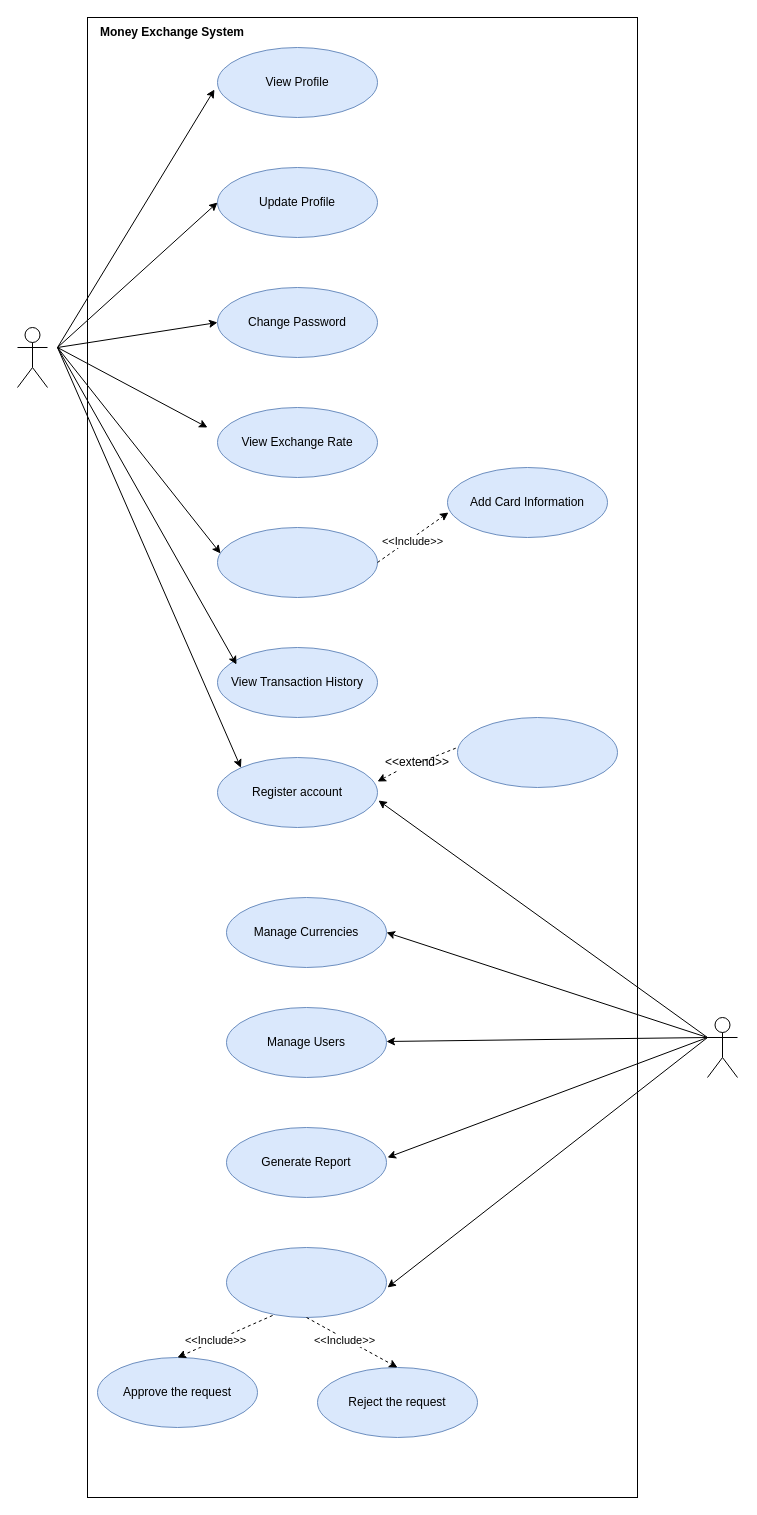
This 757x1515 diagram has some shape labels left out. The shapes that lost their labels are listed below. From the top down, each one's box as (x1, y1, x2, y2) in pixels, then its label:
(16, 326, 48, 388): User
(216, 526, 378, 598): Requst Exchange money
(456, 716, 618, 788): Request Additioal Document
(706, 1016, 738, 1078): Admin
(226, 1246, 386, 1318): Process Exchange Request
